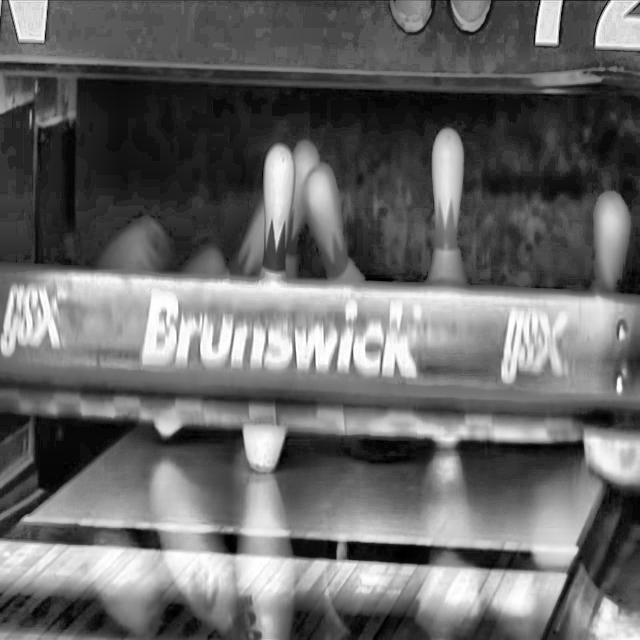bowling-pins: (428, 128, 466, 285), (262, 143, 295, 276)
sweep board: (0, 267, 640, 441)
